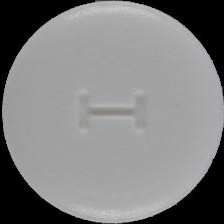50268-091: (0, 0, 224, 224)
